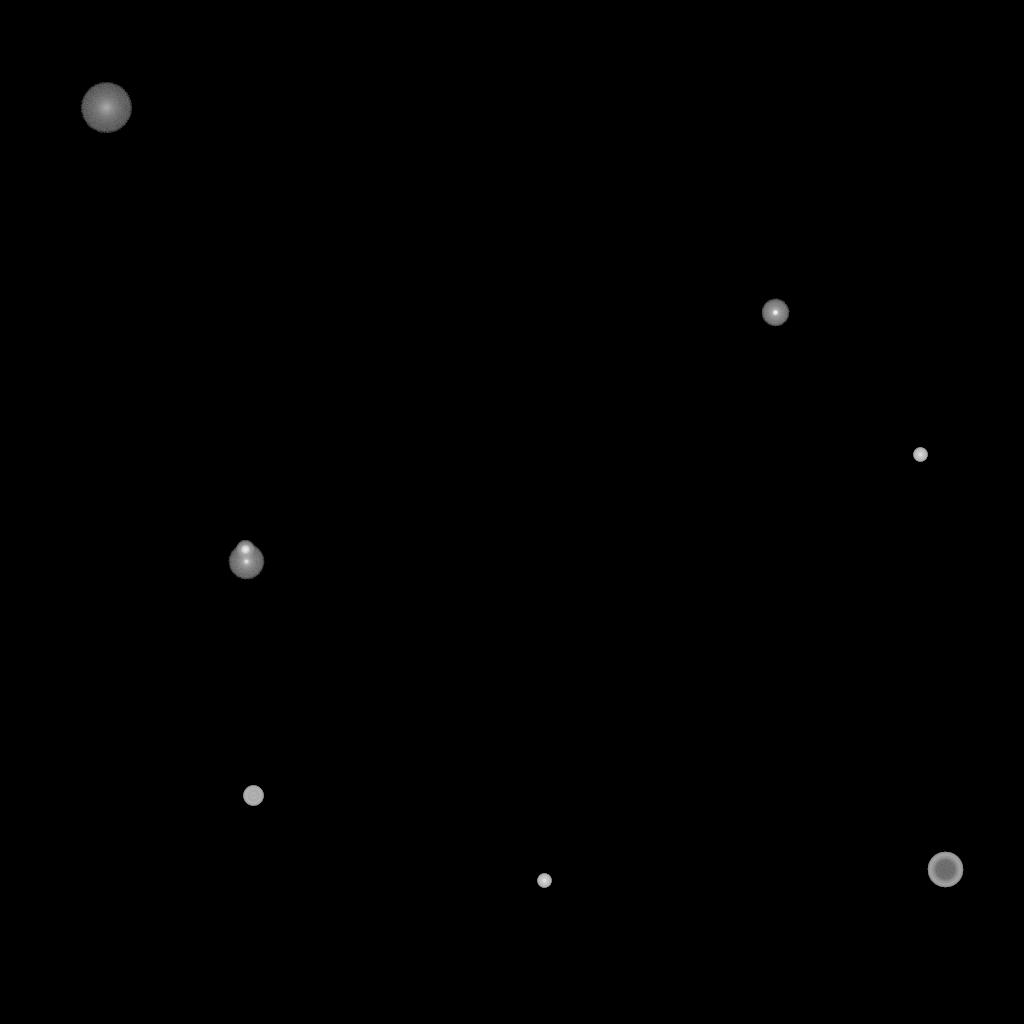depth:-10: (761, 299, 789, 327)
depth:-20: (236, 541, 254, 559)
depth:-30: (913, 448, 927, 462), (537, 874, 551, 888)
depth:-40: (243, 786, 263, 806)
depth:-60: (927, 852, 963, 888)
depth:0: (228, 544, 264, 580)
depth:20: (80, 83, 132, 133)
